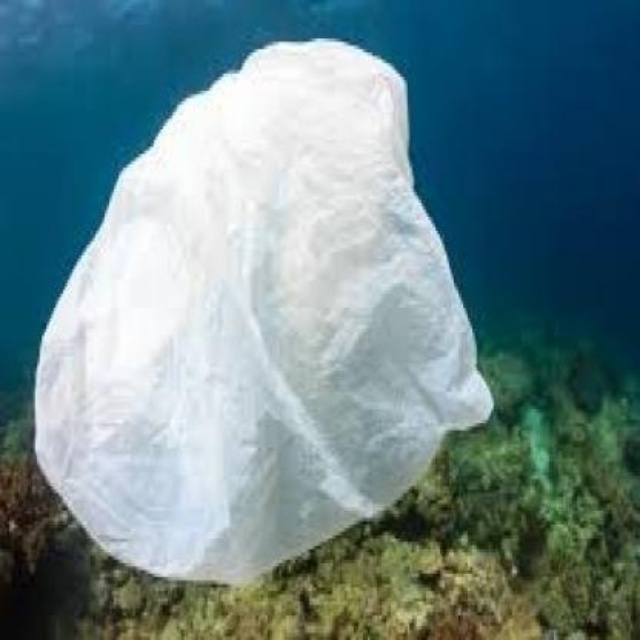trash: (35, 40, 491, 582)
